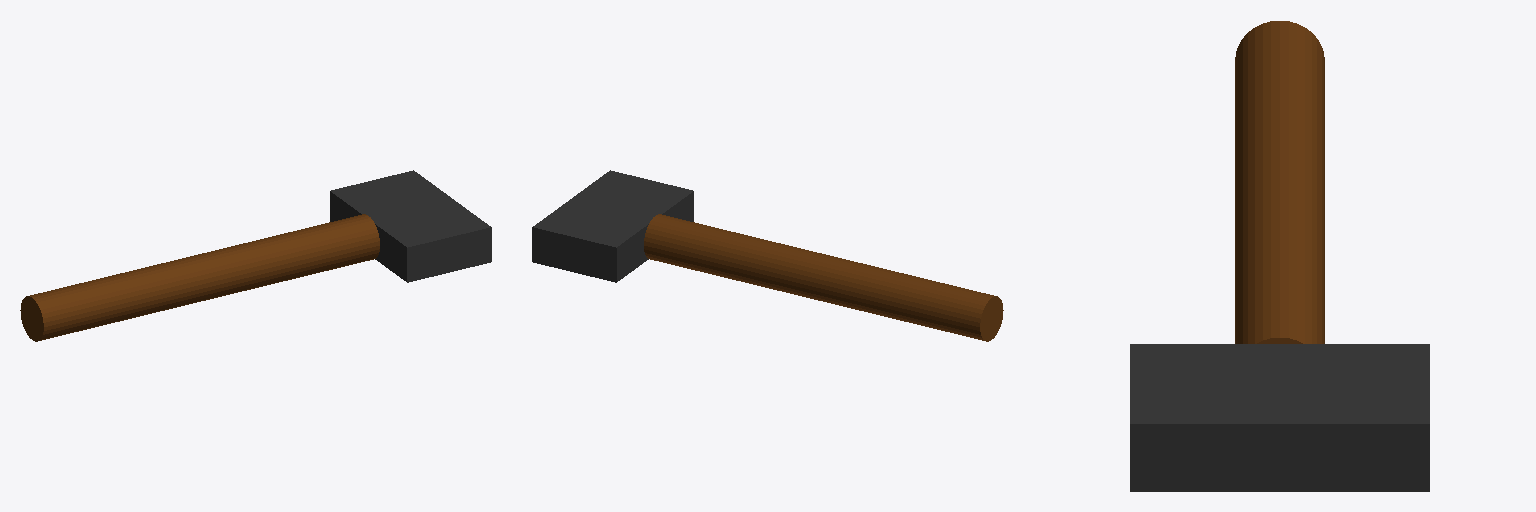
URDF robot description (brush):
<?xml version="1.0"?>
<!--
  Brush: single-link rigid body so ManiSkill loads it as an Actor (graspable).

  Geometry (in local frame, origin = handle center):
    Handle : cylinder radius=0.012, length=0.20, aligned along x-axis
             extends x ∈ [-0.10, 0.10]
    Head   : flat box 0.05 × 0.08 × 0.02 (x × y × z), center at x=0.125
             extends x ∈ [0.10, 0.15]

  Resting pose on table (z=0):
    Lay the handle flat → origin z = 0.012 (= cylinder radius).
    Head bottom z = 0.012 - 0.010 = 0.002 > 0  ✓

  Grasp point: Panda TCP approaches handle center at local (0, 0, 0).
-->
<robot name="brush">
  <link name="base_link">
    <inertial>
      <!-- Combined CoM: 0.10 kg handle at x=0 + 0.05 kg head at x=0.125 → x≈0.042 -->
      <origin xyz="0.042 0 0" rpy="0 0 0"/>
      <mass value="0.15"/>
      <!-- ixx: mostly brush-head contribution (y,z extents) -->
      <!-- iyy/izz: long in x → dominated by parallel-axis term -->
      <inertia ixx="3.6e-05" ixy="0" ixz="0"
               iyy="8.7e-04" iyz="0"
               izz="8.9e-04"/>
    </inertial>

    <!-- Handle: cylinder along x-axis (rpy 90° around y rotates z-axis to x-axis) -->
    <visual>
      <origin xyz="0 0 0" rpy="0 1.5708 0"/>
      <geometry>
        <cylinder radius="0.012" length="0.20"/>
      </geometry>
      <material name="handle_brown">
        <color rgba="0.45 0.28 0.12 1.0"/>
      </material>
    </visual>
    <collision>
      <origin xyz="0 0 0" rpy="0 1.5708 0"/>
      <geometry>
        <cylinder radius="0.012" length="0.20"/>
      </geometry>
    </collision>

    <!-- Brush head: flat box at +x end -->
    <visual>
      <origin xyz="0.125 0 0" rpy="0 0 0"/>
      <geometry>
        <box size="0.05 0.08 0.02"/>
      </geometry>
      <material name="head_dark">
        <color rgba="0.25 0.25 0.25 1.0"/>
      </material>
    </visual>
    <collision>
      <origin xyz="0.125 0 0" rpy="0 0 0"/>
      <geometry>
        <box size="0.05 0.08 0.02"/>
      </geometry>
    </collision>
  </link>
</robot>

--- Facts derived from the render (not from the file) ---
Views: 3 orthographic renders of the robot side by side, from view 1: azimuth 30°, elevation 25°; view 2: azimuth 150°, elevation 25°; view 3: azimuth 270°, elevation 25°.
Model brush with 1 links and 0 joints (none), rooted at base_link, posed all joints at 0.
Visible links, largest first — view 1: base_link; view 2: base_link; view 3: base_link.
Link boxes in pixels (x1,y1,x2,y2): base_link: (20, 170, 491, 341); base_link: (532, 170, 1003, 341); base_link: (1130, 21, 1429, 491).
Bounding box of the posed robot: 0.25 × 0.08 × 0.024 m (x, y, z).
Geometry: primitives only (box / cylinder / sphere), no mesh files.
